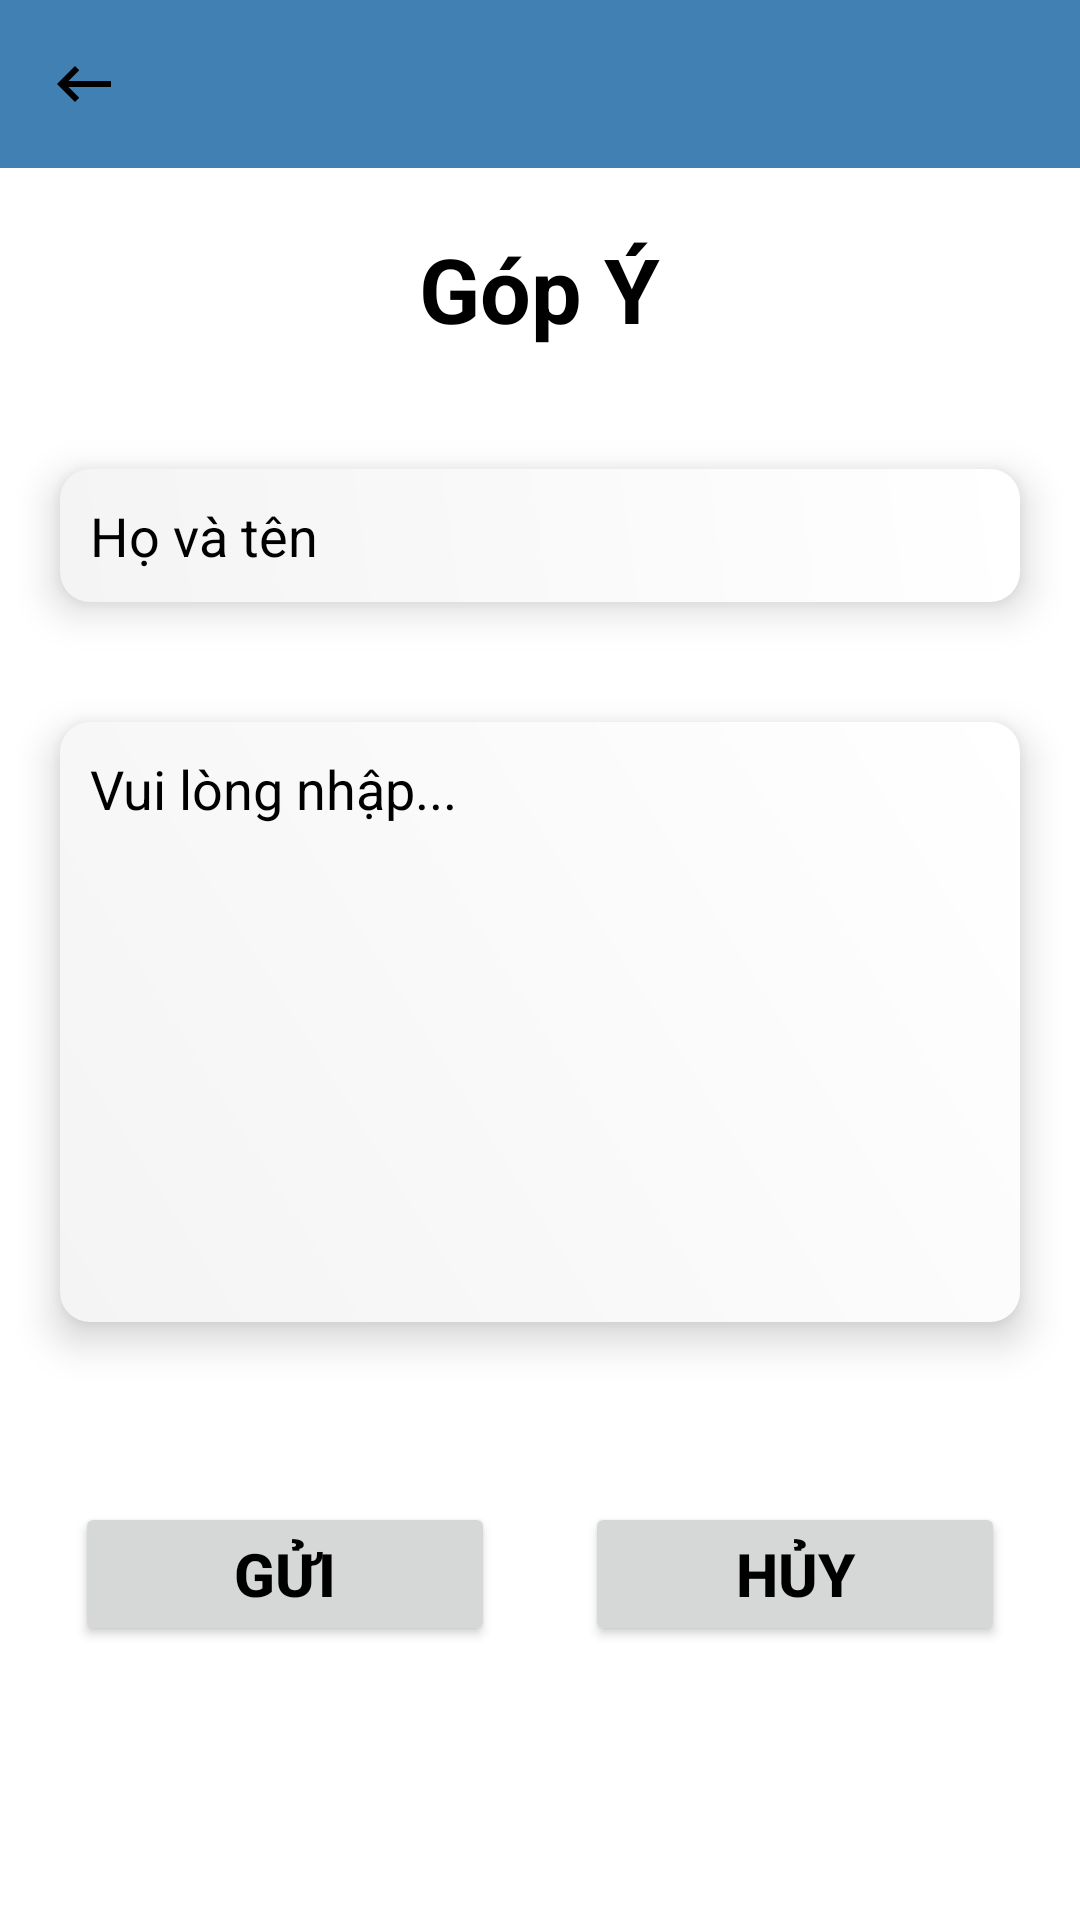

Where icons sit on this 1080x1920 app screen, as detection(x1, y1, x2, y2):
keyboard backspace: detection(57, 66, 111, 102)
